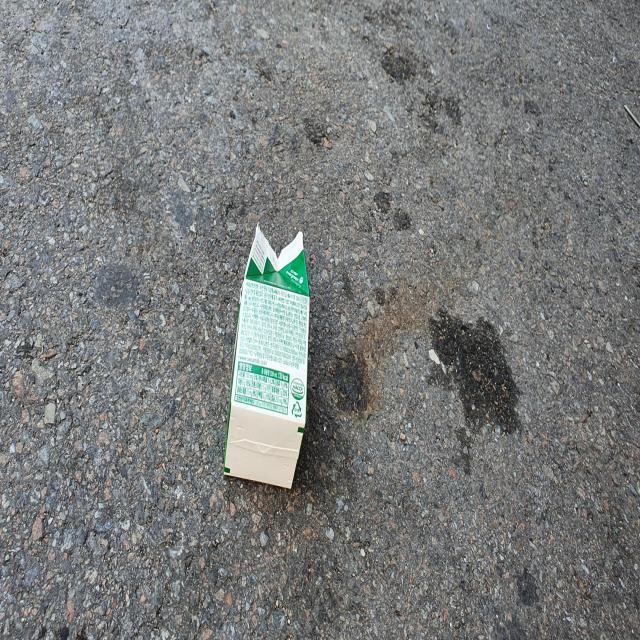paperpack: (223, 223, 310, 489)
